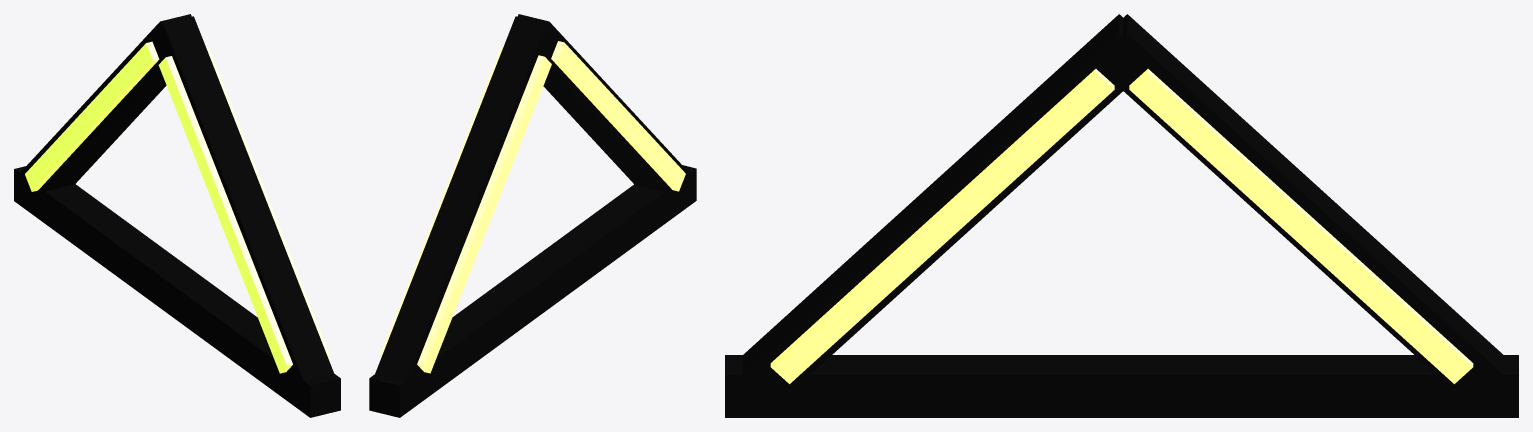
The model's file is triangle.fbx.
The picture shows the model from 3 angles, left to right: view 1: azimuth 30°, elevation 25°; view 2: azimuth 150°, elevation 25°; view 3: azimuth 270°, elevation 25°; orthographic projection. The views are drawn at different scales.
Visible parts, largest first — view 1: Cube, Cube.001, Cube.003, Cube.002, Cube.004; view 2: Cube, Cube.002, Cube.004, Cube.001, Cube.003; view 3: Cube, Cube.001, Cube.002, Cube.003, Cube.004.
Boxes of the visible parts, x1=… form: Cube: x1=14, y1=166, x2=340, y2=417; Cube.001: x1=155, y1=16, x2=333, y2=403; Cube.003: x1=158, y1=47, x2=329, y2=373; Cube.002: x1=16, y1=14, x2=191, y2=204; Cube.004: x1=25, y1=41, x2=159, y2=191; Cube: x1=369, y1=165, x2=696, y2=417; Cube.002: x1=375, y1=16, x2=558, y2=403; Cube.004: x1=380, y1=46, x2=551, y2=373; Cube.001: x1=517, y1=14, x2=690, y2=207; Cube.003: x1=551, y1=41, x2=685, y2=191; Cube: x1=725, y1=355, x2=1518, y2=417; Cube.001: x1=737, y1=14, x2=1152, y2=414; Cube.002: x1=1094, y1=14, x2=1513, y2=413; Cube.003: x1=770, y1=69, x2=1114, y2=383; Cube.004: x1=1129, y1=69, x2=1473, y2=383.
Size of the model in its own units: 283 by 1787 by 3349.
